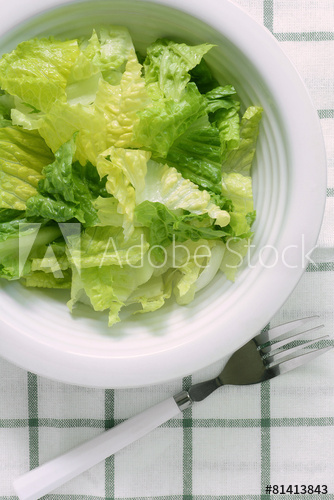chopped lettuce: (6, 31, 265, 337)
